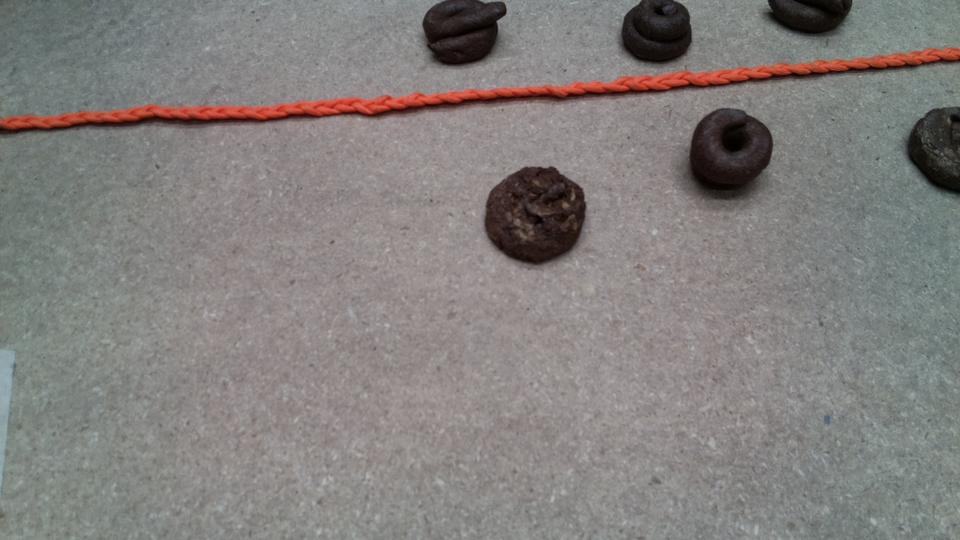poop: (479, 153, 594, 268), (680, 104, 775, 203), (423, 4, 514, 68), (619, 1, 695, 67)
rope: (2, 98, 376, 141), (356, 85, 629, 121), (744, 53, 960, 87), (584, 70, 796, 103)
